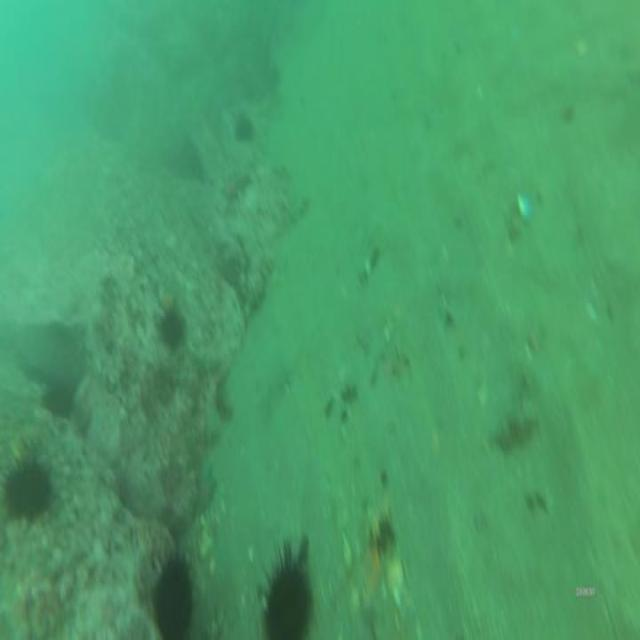echinus: (143, 539, 201, 640), (260, 545, 312, 640), (1, 454, 51, 524), (40, 373, 73, 420), (158, 311, 188, 354), (235, 106, 254, 147)
starfish: (194, 461, 220, 520)
